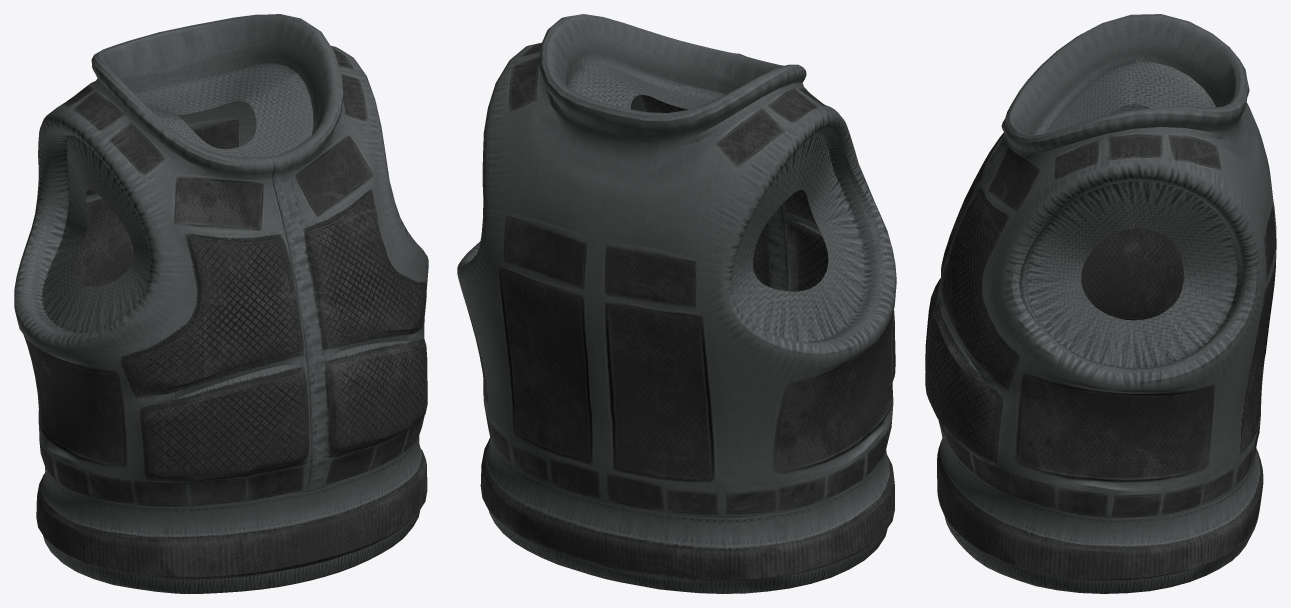
File: leather-vest.glb
3 renders of one model, left to right at view 1: azimuth 30°, elevation 25°; view 2: azimuth 150°, elevation 25°; view 3: azimuth 270°, elevation 25°, orthographic. The views are drawn at different scales.
Parts seen in each view (by area): view 1: Object_2; view 2: Object_2; view 3: Object_2.
Boxes of the visible parts, x1=… form: Object_2: x1=14, y1=14, x2=428, y2=593; Object_2: x1=457, y1=14, x2=896, y2=593; Object_2: x1=925, y1=14, x2=1276, y2=593.
Bounding box in the file's own units: 0.4608 × 0.5534 × 0.3869.
1 material, 1 textured.
